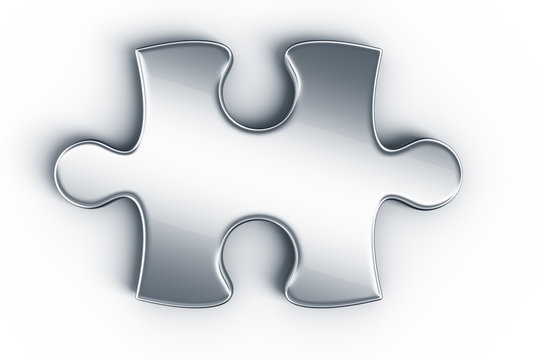puzzle piece: (45, 31, 476, 321)
